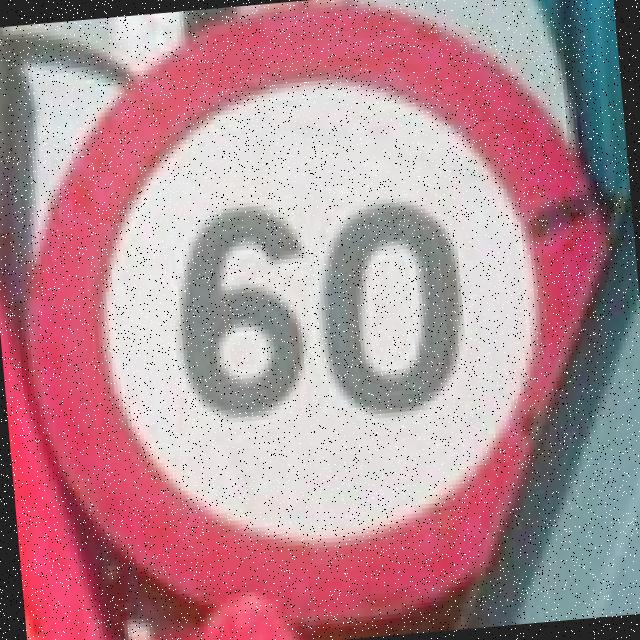Ograniczenie predkosci do 60: (2, 0, 624, 630)
